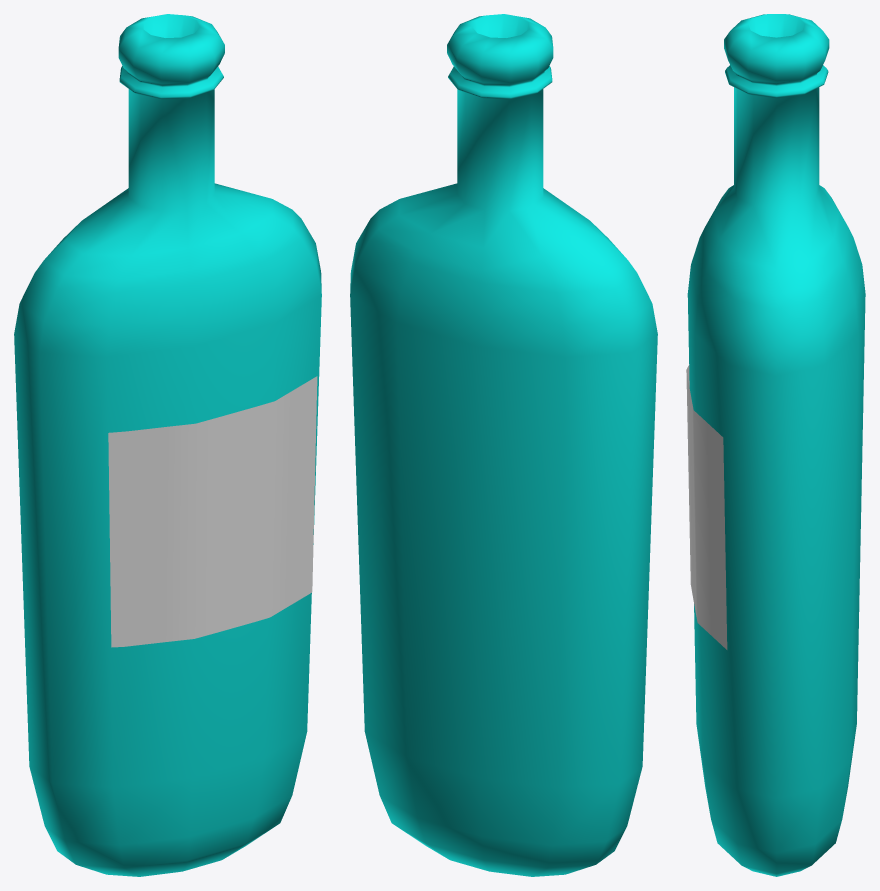
Rendered from Bottle_4.fbx.
3 views of the same model, side by side, from view 1: azimuth 30°, elevation 25°; view 2: azimuth 150°, elevation 25°; view 3: azimuth 270°, elevation 25° (orthographic).
Parts seen in each view (by area): view 1: Bottle_4 -; view 2: Bottle_4 -; view 3: Bottle_4 -.
Part boxes in pixels (x1,y1,x2,y2): Bottle_4 -: (14,14,321,876); Bottle_4 -: (350,14,657,876); Bottle_4 -: (686,14,865,876).
Size of the model in its own units: 11.78 by 31.62 by 6.29.
